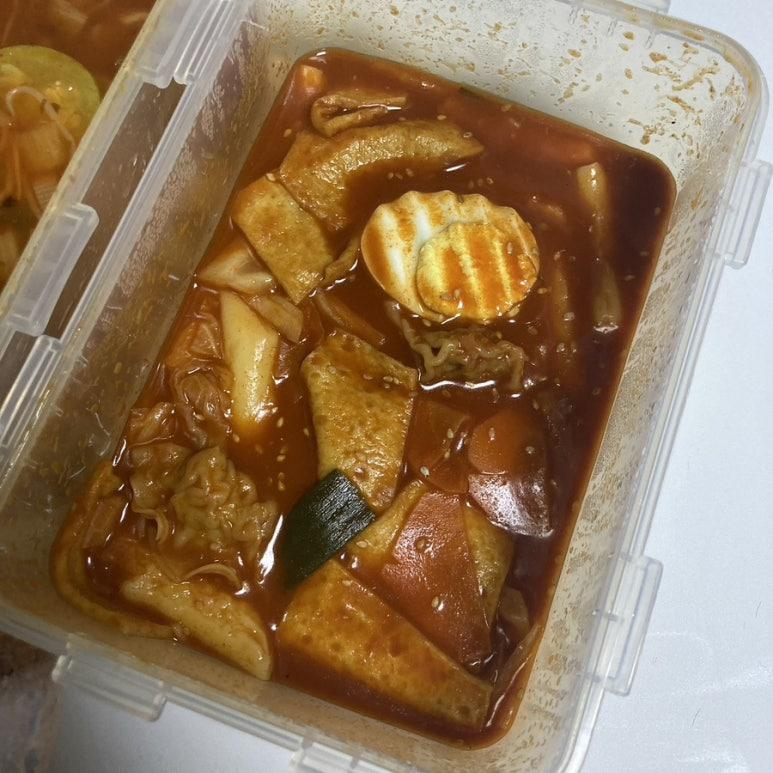Lunch Box: (0, 0, 770, 772)
